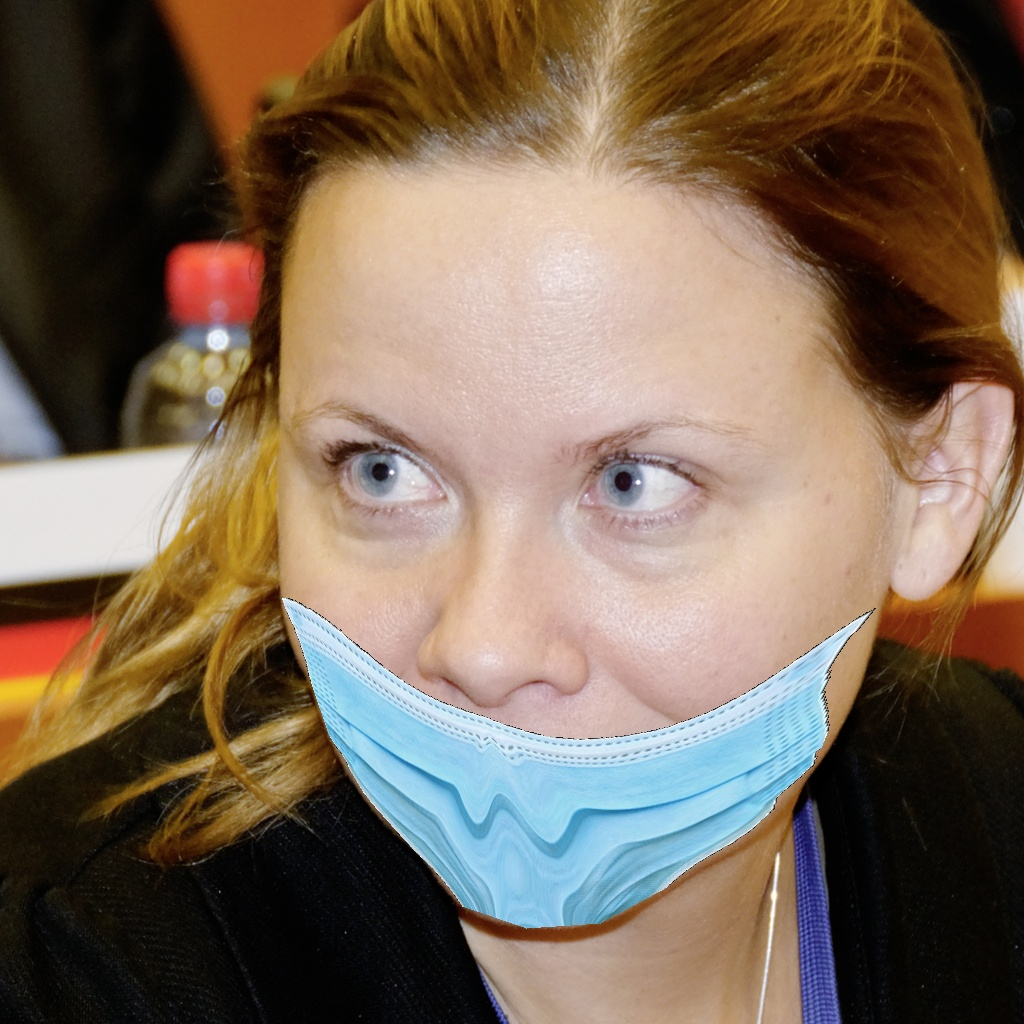mascarilla_mal_puesta: (234, 323, 847, 900)
